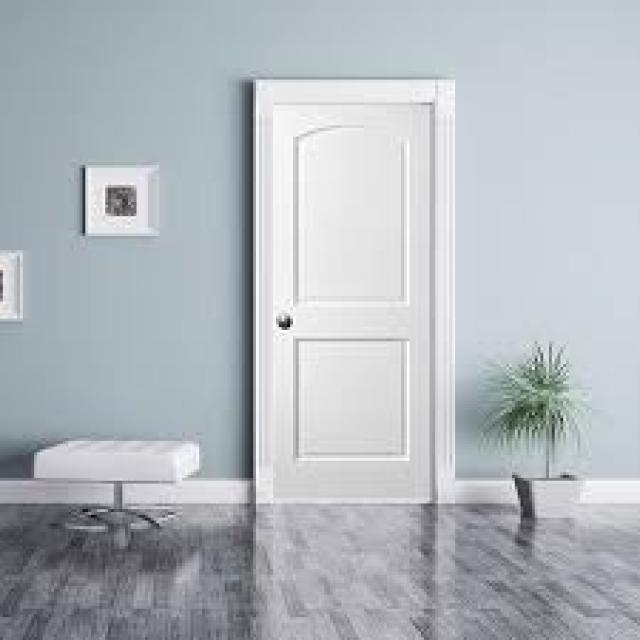door: (253, 78, 438, 505)
